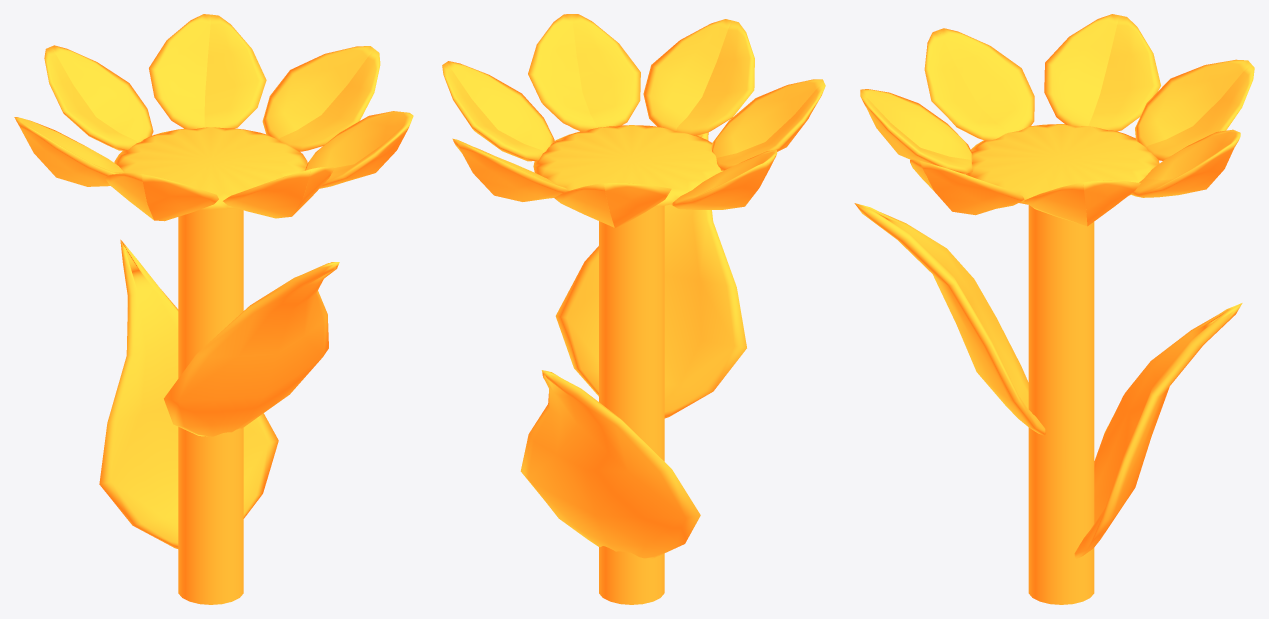
File: blomma.FBX
3 views of the same model, side by side, from view 1: azimuth 30°, elevation 25°; view 2: azimuth 150°, elevation 25°; view 3: azimuth 270°, elevation 25° (orthographic).
Parts seen in each view (by area): view 1: Cylinder001, Box002, Box001, Box008, Cylinder002, Box007, Box003, Box009, Box006, Box005, Box004; view 2: Box002, Cylinder001, Box001, Cylinder002, Box009, Box004, Box007, Box005, Box003, Box006, Box008; view 3: Cylinder001, Box006, Cylinder002, Box002, Box005, Box001, Box003, Box004, Box008, Box007, Box009.
Boxes of the visible parts, left/top/right/bottom form: Cylinder001: left=178, top=208, right=243, bottom=604; Box002: left=99, top=239, right=278, bottom=548; Box001: left=164, top=262, right=339, bottom=436; Box008: left=149, top=14, right=266, bottom=128; Cylinder002: left=114, top=127, right=307, bottom=209; Box007: left=262, top=46, right=380, bottom=151; Box003: left=44, top=45, right=153, bottom=150; Box009: left=305, top=111, right=413, bottom=188; Box006: left=14, top=117, right=124, bottom=186; Box005: left=105, top=173, right=218, bottom=221; Box004: left=223, top=167, right=333, bottom=218; Box002: left=520, top=370, right=700, bottom=558; Cylinder001: left=599, top=205, right=664, bottom=604; Box001: left=555, top=132, right=746, bottom=418; Cylinder002: left=533, top=125, right=723, bottom=206; Box009: left=528, top=14, right=640, bottom=131; Box004: left=643, top=19, right=754, bottom=135; Box007: left=442, top=61, right=554, bottom=161; Box005: left=711, top=79, right=825, bottom=170; Box003: left=554, top=183, right=671, bottom=227; Box006: left=671, top=150, right=777, bottom=209; Box008: left=452, top=138, right=568, bottom=201; Cylinder001: left=1028, top=205, right=1094, bottom=604; Box006: left=1044, top=14, right=1160, bottom=131; Cylinder002: left=965, top=124, right=1159, bottom=204; Box002: left=1074, top=303, right=1242, bottom=559; Box005: left=924, top=28, right=1034, bottom=140; Box001: left=854, top=203, right=1045, bottom=435; Box003: left=1135, top=59, right=1254, bottom=160; Box004: left=860, top=89, right=972, bottom=174; Box008: left=1130, top=129, right=1240, bottom=197; Box007: left=1023, top=180, right=1140, bottom=226; Box009: left=910, top=159, right=1024, bottom=215.
Bounding box in the file's own units: 2.9 × 4.01 × 2.92.
